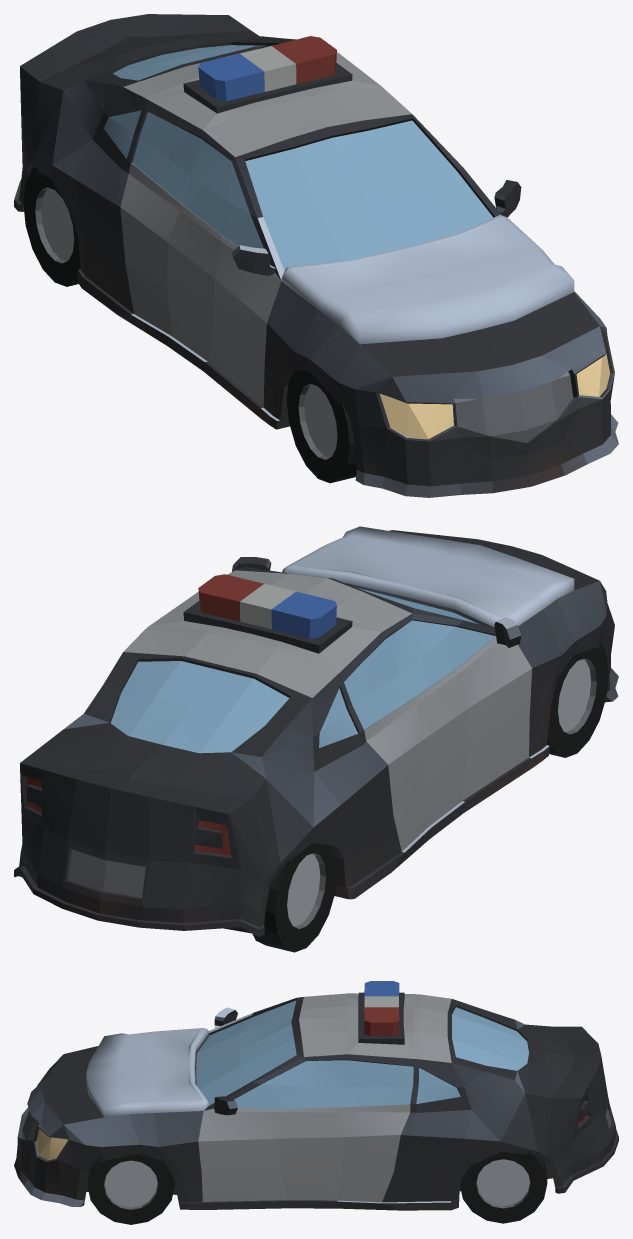
Rendered from police_clean.glb.
3 renders of one model, top to bottom at view 1: azimuth 30°, elevation 25°; view 2: azimuth 150°, elevation 25°; view 3: azimuth 270°, elevation 25°, orthographic. The views are drawn at different scales.
Visible parts, largest first — view 1: Body, Glass; view 2: Body, Glass; view 3: Body, Glass.
Part boxes in pixels (x1,y1,x2,y2): Body: (14,14,618,497); Glass: (104,45,492,270); Body: (14,526,618,952); Glass: (111,588,495,753); Body: (14,981,618,1224); Glass: (196,1000,528,1108).
Size of the model in its own units: 1.88 by 1.6 by 4.9.
